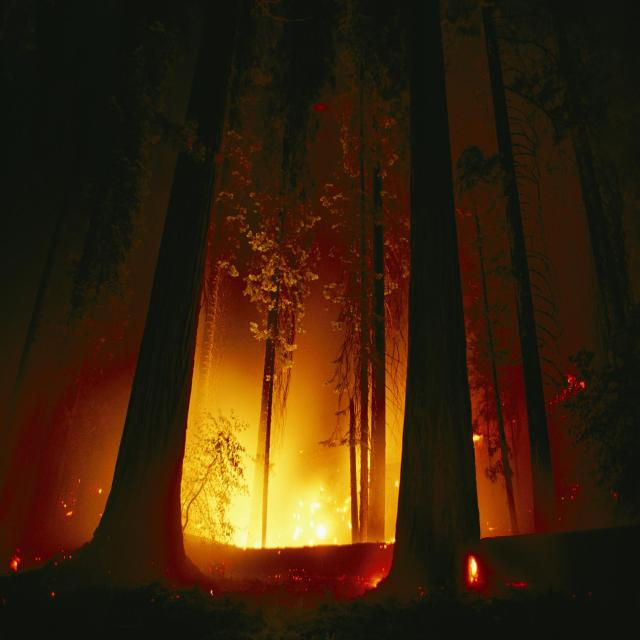Fire: (165, 387, 418, 542)
